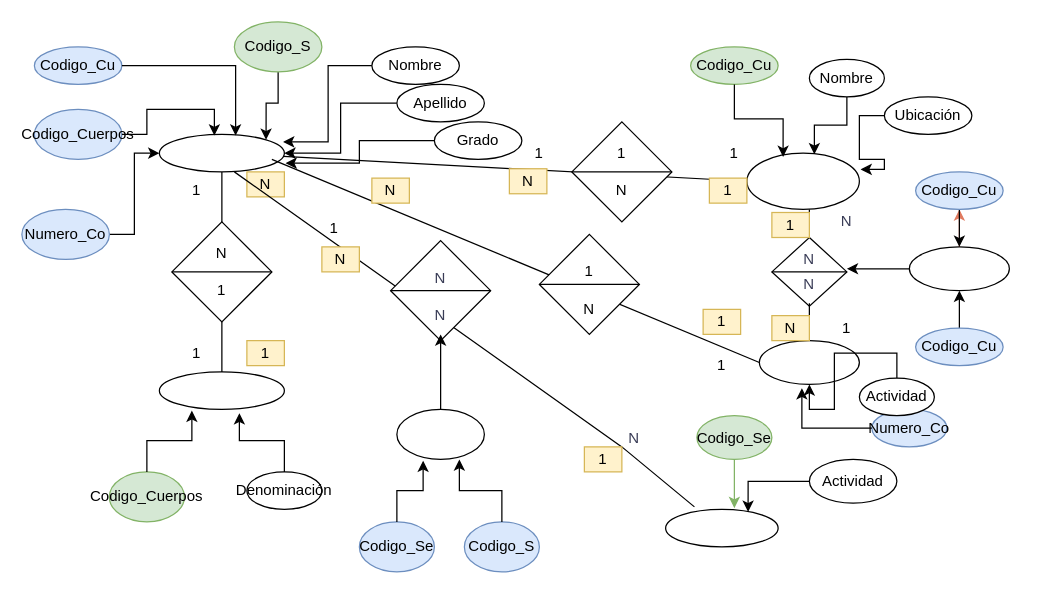
This 1055x594 diagram has some shape labels left out. The shapes that lost their labels are listed below. From the top down, each one's centre as x and y in pixels, then its label:
At (221,152): "Soldado".
At (802,180): "Cuarteles".
At (958,268): "Compañias_Cuarteles".
At (808,361): "Compañias".
At (221,390): "Cuerpos".
At (440,433): "Soldados_Servicios".
At (721,527): "Servicios".
